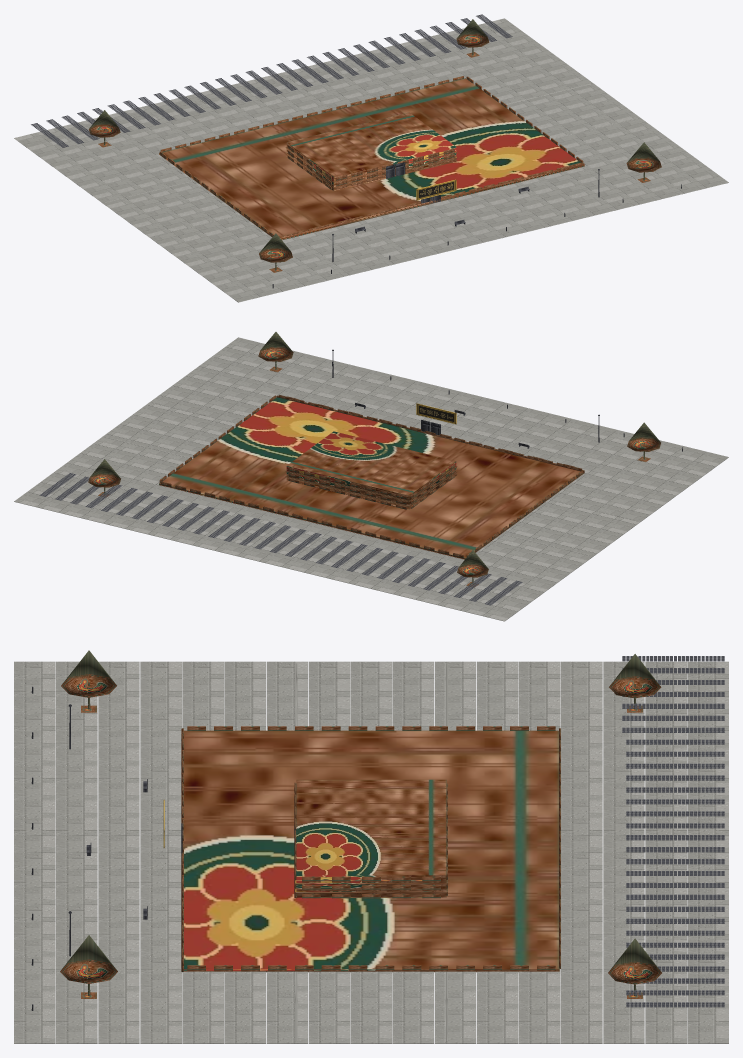
3 renders of one model, top to bottom at view 1: azimuth 30°, elevation 25°; view 2: azimuth 150°, elevation 25°; view 3: azimuth 270°, elevation 25°, orthographic. The views are drawn at different scales.
Parts seen in each view (by area): view 1: 11140_02_04565_037_01__plinth_ground_base, 11140_02_04565_037_02__mass_body_facade, 11140_02_04565_037_03__roof_deck_structure, 11140_02_04565_037_06__landscape_greenery, 11140_02_04565_037_05__window_sash_glass, 11140_02_04565_037_05__door_hardware_iron; view 2: 11140_02_04565_037_01__plinth_ground_base, 11140_02_04565_037_02__mass_body_facade, 11140_02_04565_037_03__roof_deck_structure, 11140_02_04565_037_06__landscape_greenery, 11140_02_04565_037_05__door_hardware_iron; view 3: 11140_02_04565_037_01__plinth_ground_base, 11140_02_04565_037_02__mass_body_facade, 11140_02_04565_037_03__roof_deck_structure, 11140_02_04565_037_06__landscape_greenery.
Part boxes in pixels (x1=…): 11140_02_04565_037_01__plinth_ground_base: x1=14, y1=18, x2=728, y2=302; 11140_02_04565_037_02__mass_body_facade: x1=159, y1=76, x2=584, y2=240; 11140_02_04565_037_03__roof_deck_structure: x1=31, y1=14, x2=512, y2=147; 11140_02_04565_037_06__landscape_greenery: x1=89, y1=19, x2=661, y2=272; 11140_02_04565_037_05__window_sash_glass: x1=287, y1=148, x2=574, y2=236; 11140_02_04565_037_05__door_hardware_iron: x1=272, y1=162, x2=681, y2=288; 11140_02_04565_037_01__plinth_ground_base: x1=14, y1=337, x2=728, y2=621; 11140_02_04565_037_02__mass_body_facade: x1=159, y1=395, x2=584, y2=559; 11140_02_04565_037_03__roof_deck_structure: x1=39, y1=473, x2=522, y2=605; 11140_02_04565_037_06__landscape_greenery: x1=88, y1=332, x2=660, y2=587; 11140_02_04565_037_05__door_hardware_iron: x1=332, y1=349, x2=682, y2=451; 11140_02_04565_037_01__plinth_ground_base: x1=14, y1=661, x2=728, y2=1043; 11140_02_04565_037_02__mass_body_facade: x1=181, y1=726, x2=560, y2=972; 11140_02_04565_037_03__roof_deck_structure: x1=622, y1=656, x2=724, y2=1007; 11140_02_04565_037_06__landscape_greenery: x1=60, y1=650, x2=661, y2=998.
Size of the model in its own units: 95.95 by 7.2 by 75.95.
7 materials, 7 textured.
